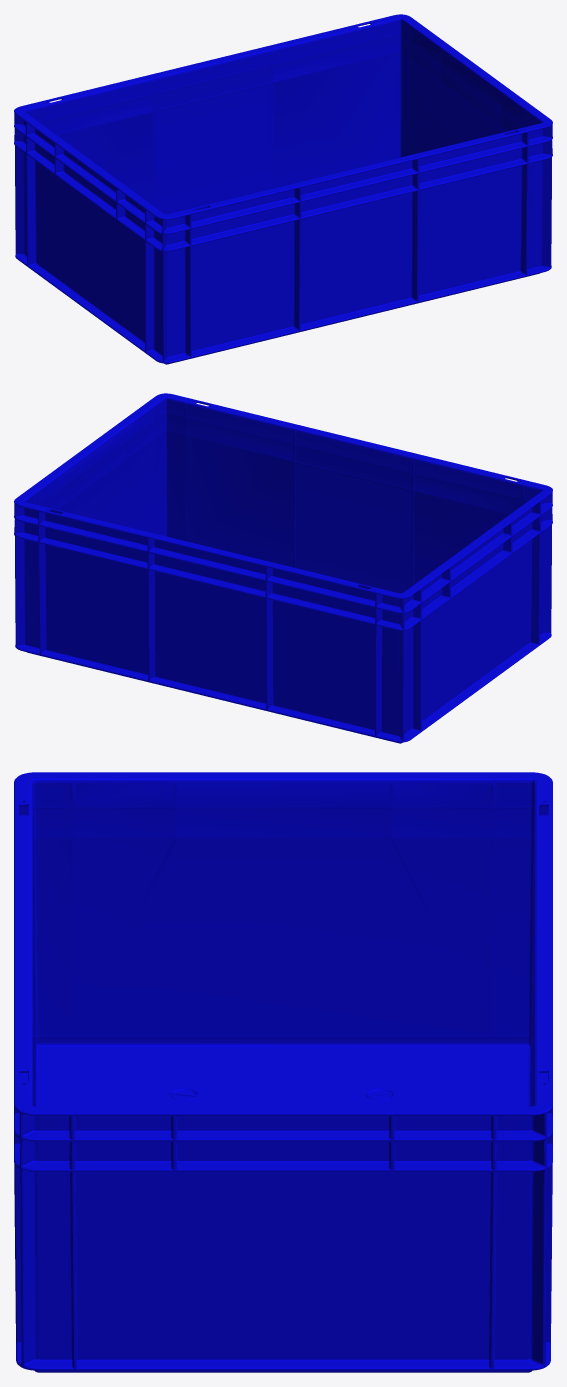
File: tote.dae
The picture shows the model from 3 angles, top to bottom: view 1: azimuth 30°, elevation 25°; view 2: azimuth 150°, elevation 25°; view 3: azimuth 270°, elevation 25°; orthographic projection. The views are drawn at different scales.
Visible parts, largest first — view 1: Container_C05_01; view 2: Container_C05_01; view 3: Container_C05_01.
Part boxes in pixels (box(x1,y1,x2,y2)): Container_C05_01: box(14, 14, 552, 364); Container_C05_01: box(14, 393, 552, 743); Container_C05_01: box(14, 772, 552, 1372).
Size of the model in its own units: 0.6 by 0.4 by 0.2211.
